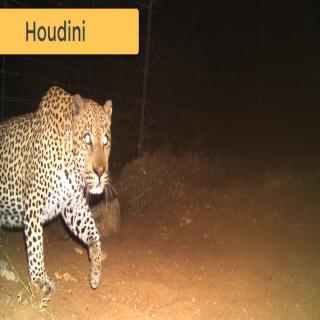Leopard: (0, 75, 123, 304)
